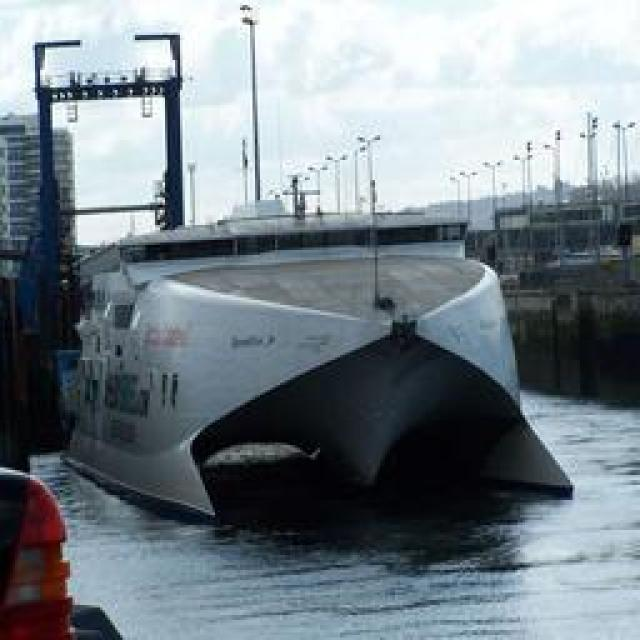CIV_Ship: (61, 232, 564, 526)
